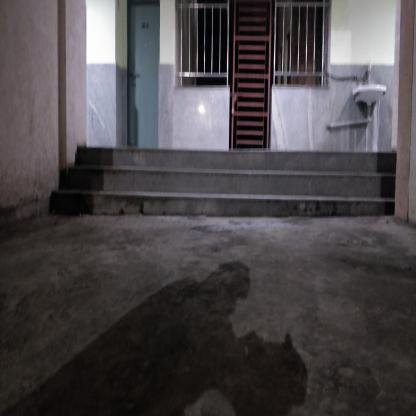stairs: (77, 146, 396, 222)
